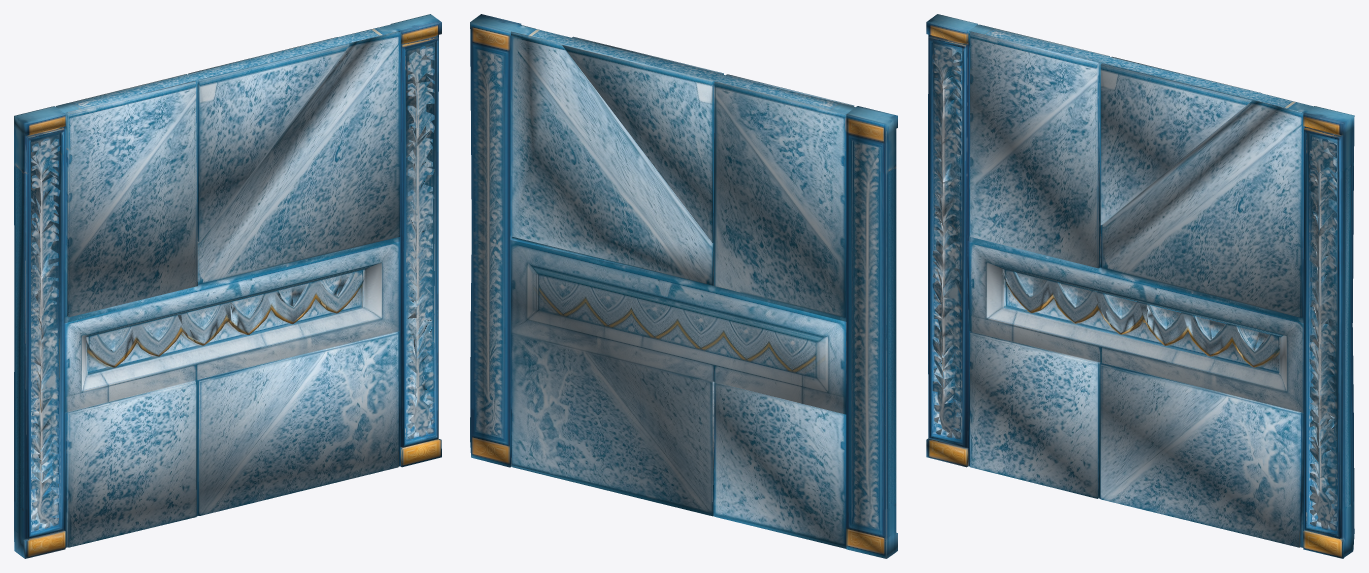
The model's file is City wall (tex_city_wall).glb.
3 renders of one model, left to right at view 1: azimuth 30°, elevation 25°; view 2: azimuth 150°, elevation 25°; view 3: azimuth 330°, elevation 25°, orthographic.
Size of the model in its own units: 0.9497 by 0.9497 by 0.0459.
1 material, 1 textured.
